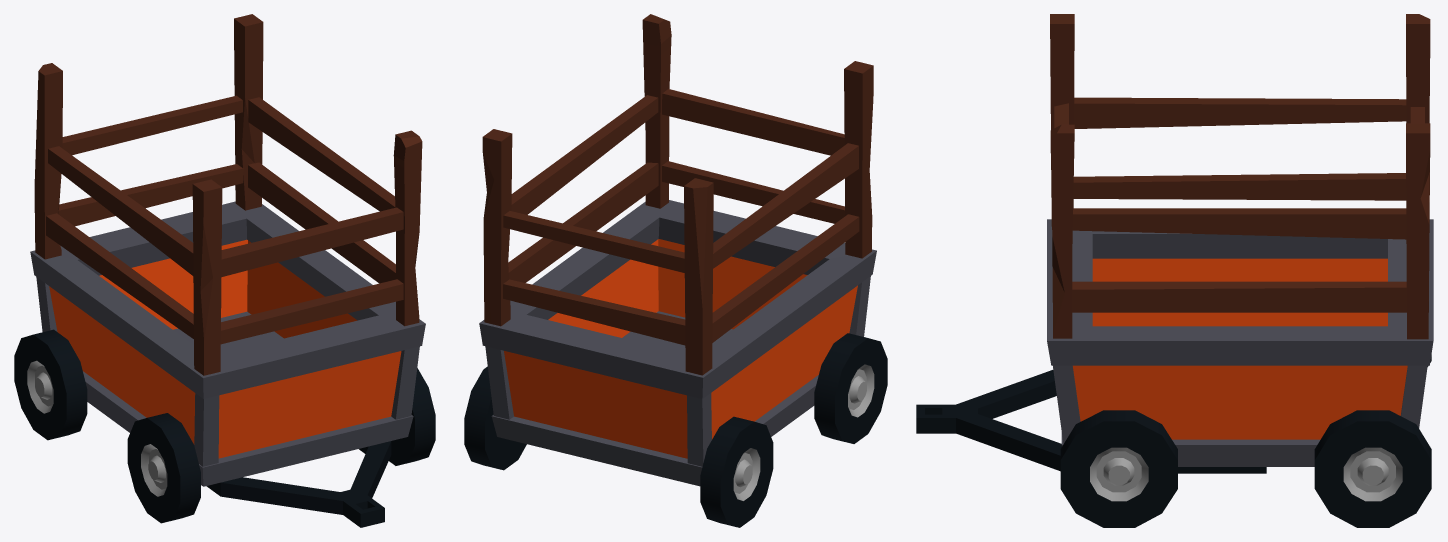
File: Trailer_3.fbx
3 views of the same model, side by side, from view 1: azimuth 30°, elevation 25°; view 2: azimuth 150°, elevation 25°; view 3: azimuth 270°, elevation 25° (orthographic). The views are drawn at different scales.
Parts seen in each view (by area): view 1: Trailer_3; view 2: Trailer_3; view 3: Trailer_3.
Boxes of the visible parts, box(x1,y1,x2,y2) form: Trailer_3: box(14, 14, 435, 527); Trailer_3: box(464, 14, 887, 527); Trailer_3: box(916, 14, 1433, 527).
Bounding box in the file's own units: 61.67 × 78.8 × 95.93.
